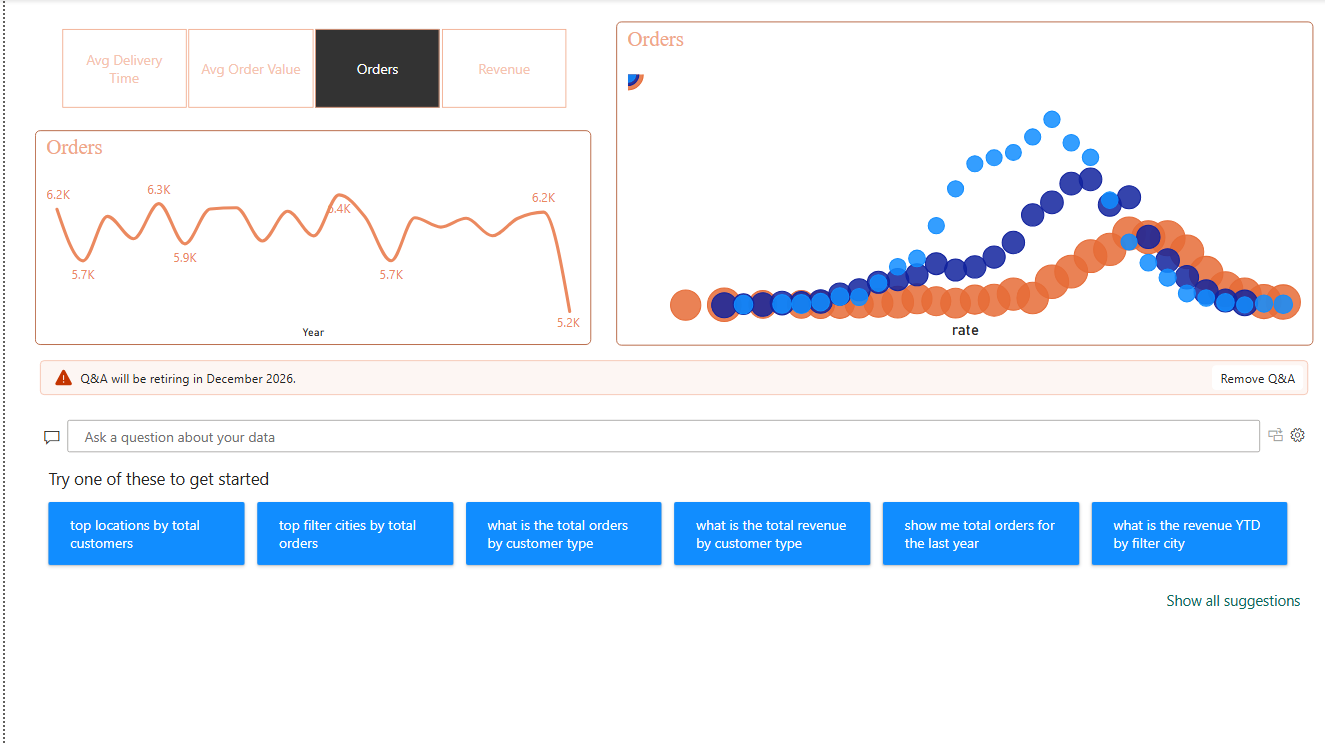

Layout of this report page (visuals, bound fields, positions):
{"tool":"powerbi","page":{"name":"Advanced Insights","canvas":[1280,720],"ordinal":4},"visuals":[{"type":"slicer","fields":{"Values":["KPI.KPI Name"]},"box":[29,21.7,536.9,90.5],"z":0},{"type":"lineChart","fields":{"Category":["DateTable.Date.Variation.Date Hierarchy.Year","DateTable.Date.Variation.Date Hierarchy.Month"],"Y":["Orders.Selected KPI Value"]},"box":[29,126.7,536.9,207.5],"z":1000},{"type":"scatterChart","fields":{"X":["Restaurants.rate"],"Size":["Avg(Restaurants.CostForTwo)"],"Series":["Restaurants.Cost Bucket"],"Y":["Orders.Selected KPI Value"]},"box":[589.9,21.7,673.2,312.5],"z":2000},{"type":"qnaVisual","box":[29,343.8,1234.2,329.4],"z":3000}]}

Visuals, with their boxes in screenshot pixels (x1, y1, x2, y2), scaled from the page's 1280x720 canvas onto the 1325x744 screenshot:
slicer - KPI.KPI Name: rect(30, 22, 586, 116)
lineChart - DateTable.Date.Variation.Date Hierarchy.Year x DateTable.Date.Variation.Date Hierarchy.Month: rect(30, 131, 586, 345)
scatterChart - Restaurants.rate x Avg(Restaurants.CostForTwo): rect(611, 22, 1308, 345)
qnaVisual: rect(30, 355, 1308, 696)
